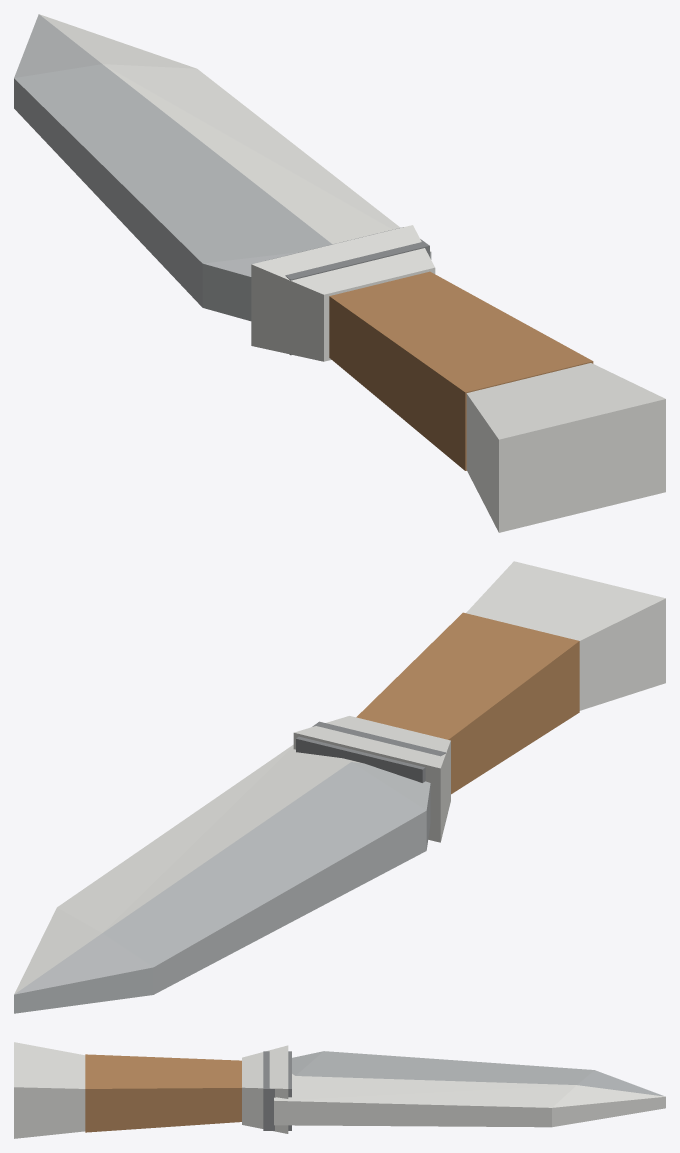
File: FletchingKnife_v2.glb
3 views of the same model, one above another, from view 1: azimuth 30°, elevation 25°; view 2: azimuth 150°, elevation 25°; view 3: azimuth 270°, elevation 25° (orthographic). The views are drawn at different scales.
Parts seen in each view (by area): view 1: FletchingKnife; view 2: FletchingKnife; view 3: FletchingKnife.
Part boxes in pixels (x1,y1,x2,y2): FletchingKnife: (14, 14, 665, 532); FletchingKnife: (14, 561, 665, 1013); FletchingKnife: (14, 1042, 665, 1138).
Bounding box in the file's own units: 0.36 × 0.16 × 1.83.
